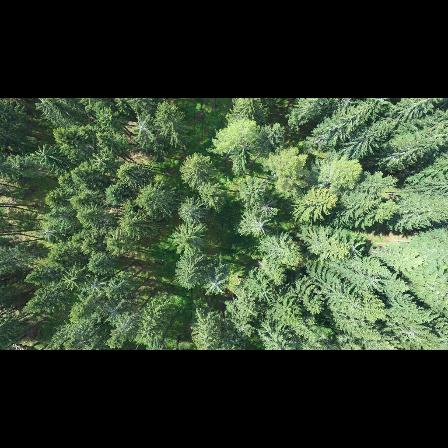Sick: (199, 274, 231, 297), (130, 114, 154, 137), (102, 301, 126, 322), (249, 215, 272, 235), (91, 151, 111, 173), (257, 197, 279, 217), (37, 221, 60, 240), (82, 278, 102, 294)
